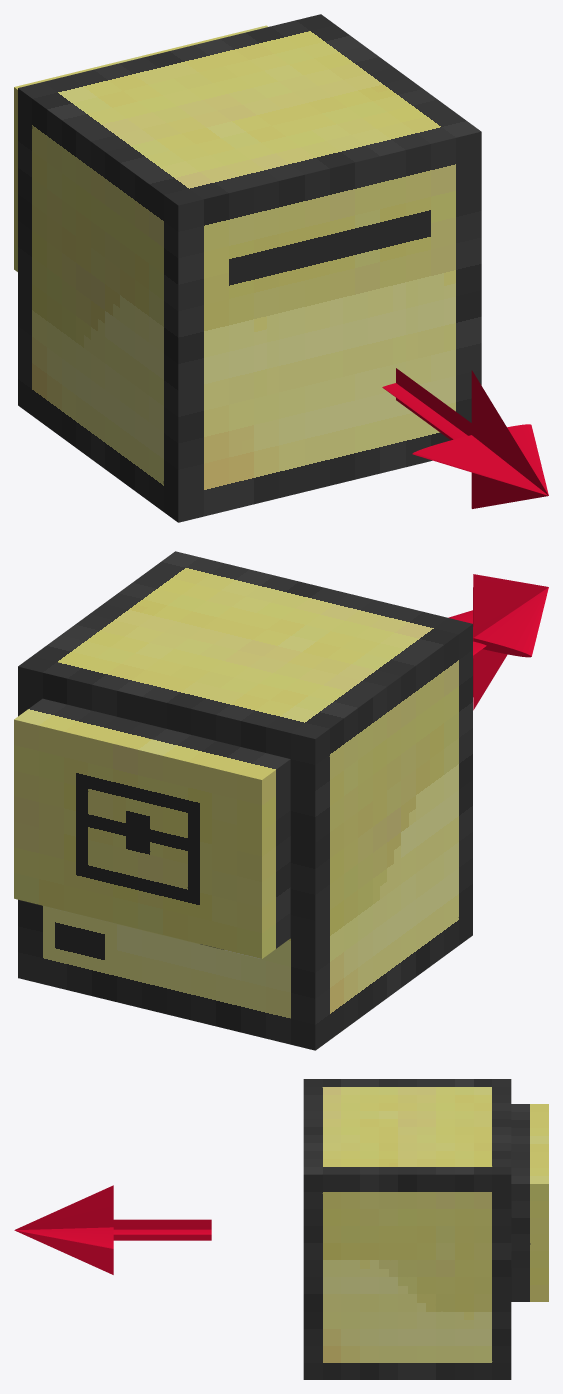
The model's file is turtle.gltf.
3 views of the same model, one above another, from view 1: azimuth 30°, elevation 25°; view 2: azimuth 150°, elevation 25°; view 3: azimuth 270°, elevation 25° (orthographic). The views are drawn at different scales.
Visible parts, largest first — view 1: Cone; view 2: Cone; view 3: Cone.
Part boxes in pixels (bbox=[...]): Cone: bbox=[14, 14, 548, 522]; Cone: bbox=[14, 551, 548, 1050]; Cone: bbox=[14, 1079, 548, 1379].
Bounding box in the file's own units: 0.75 × 0.75 × 1.77.
Materials: 3 (2 with a texture image).
